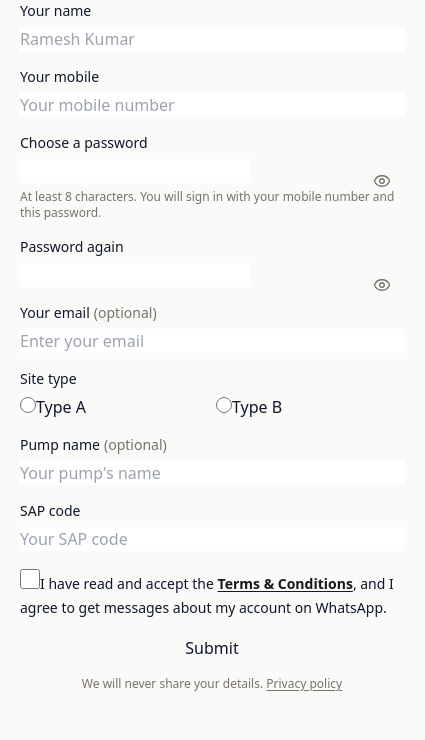
Test: RegisterPage › sends nothing until the required details and the terms are in
(page scrolled)
Click the button "Submit" at (212, 648), box [20,636,404,660]
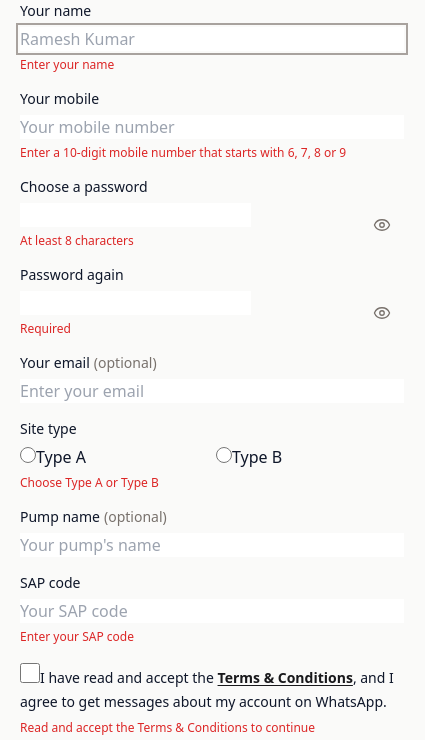
Expected: the text "Enter your name" is shown, [20,56,114,72]
Expected: the text "Enter a 10-digit mobile number that starts with 6, 7, 8 or 9" is shown, [20,144,346,160]
Expected: the text "Choose Type A or Type B" is shown, [20,474,159,490]
